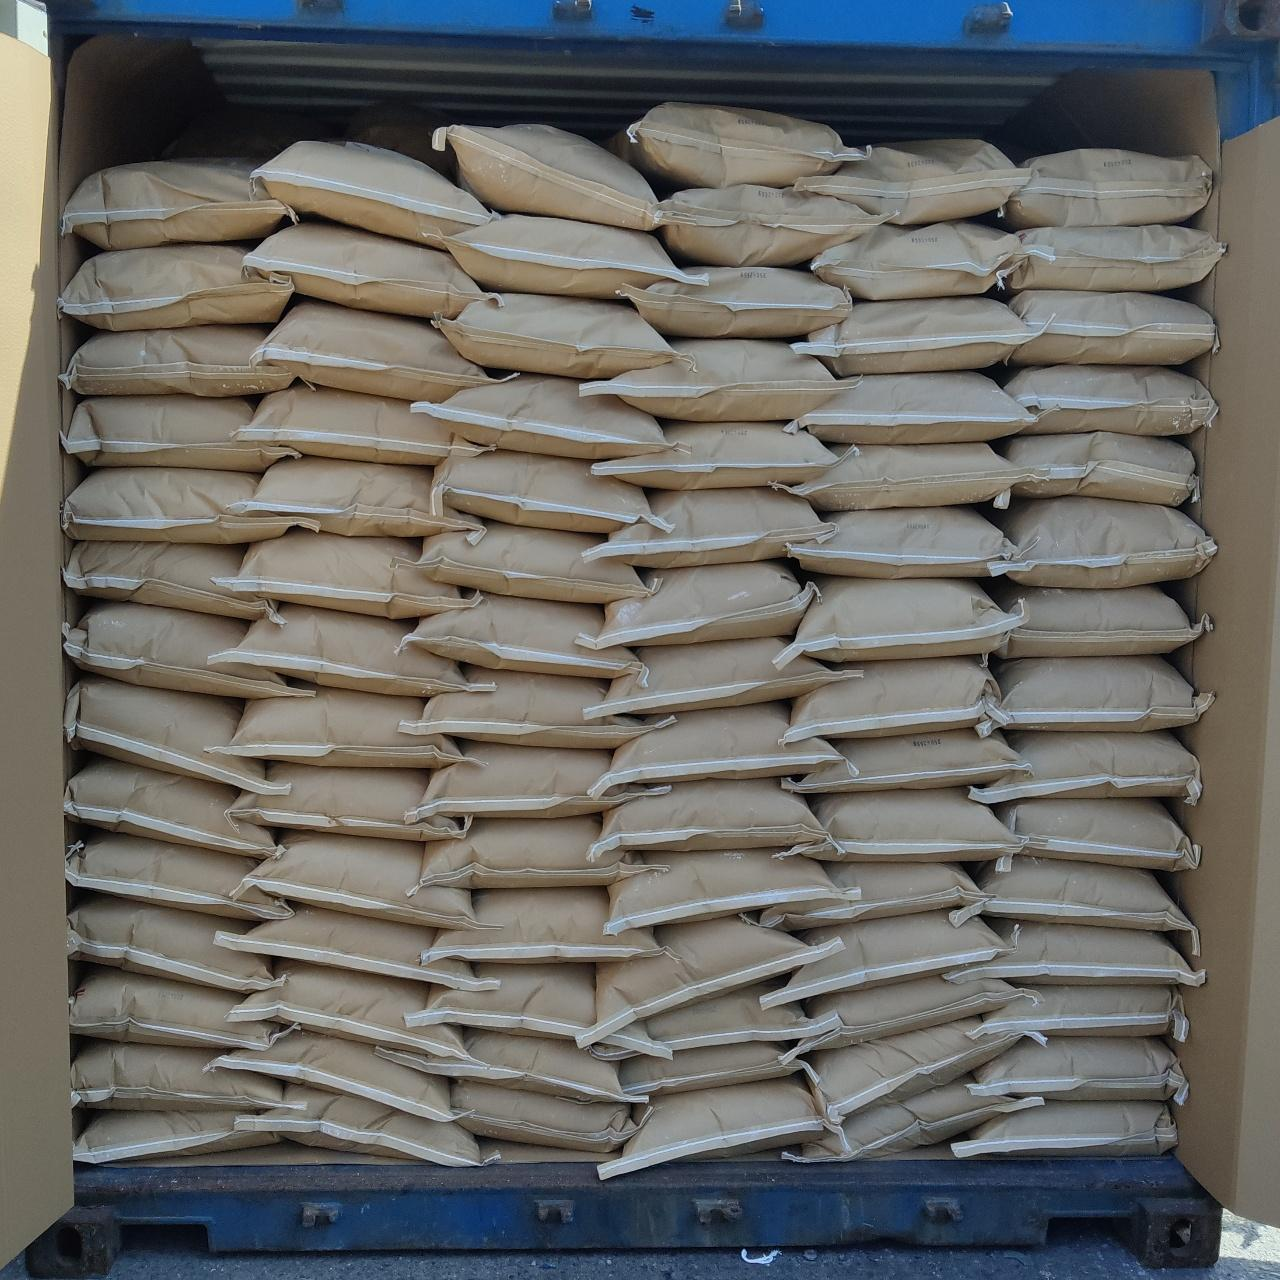sack: (584, 918, 836, 1042), (406, 963, 671, 1058), (68, 674, 284, 790), (252, 142, 490, 246), (244, 222, 490, 318), (258, 300, 490, 398), (214, 606, 472, 694), (218, 906, 492, 988), (444, 126, 660, 230), (242, 832, 480, 926), (232, 960, 464, 1056), (66, 602, 308, 694), (600, 1076, 826, 1174), (966, 854, 1198, 948), (586, 638, 854, 718), (66, 756, 274, 858), (68, 894, 284, 992), (610, 104, 862, 188), (580, 340, 844, 420), (234, 1084, 490, 1166), (416, 374, 664, 458), (594, 704, 836, 790), (770, 912, 1006, 1000), (210, 1032, 446, 1120), (440, 214, 686, 298), (784, 1080, 1040, 1160), (232, 530, 474, 614), (402, 668, 662, 746), (434, 294, 674, 378), (64, 158, 292, 246), (404, 594, 640, 678), (814, 1020, 1010, 1120), (228, 456, 478, 534), (582, 562, 814, 646), (68, 830, 288, 918), (784, 976, 1026, 1056), (216, 688, 462, 766), (236, 384, 482, 462), (591, 984, 840, 1061), (792, 578, 1020, 662), (792, 140, 1024, 222), (434, 450, 660, 534), (62, 244, 292, 326), (998, 498, 1214, 584), (608, 850, 840, 930), (794, 298, 1038, 374), (414, 742, 664, 816), (784, 656, 998, 742), (388, 1030, 642, 1102), (416, 522, 650, 600), (590, 488, 824, 566), (420, 816, 662, 890), (592, 778, 826, 854), (424, 888, 662, 962), (780, 788, 1016, 862), (970, 730, 1198, 806), (232, 764, 466, 838), (72, 966, 288, 1046), (64, 468, 296, 542), (66, 542, 278, 622), (790, 372, 1032, 442), (658, 186, 878, 262), (978, 656, 1214, 726), (810, 222, 1020, 300), (66, 398, 292, 470), (1002, 150, 1210, 228), (992, 584, 1210, 658), (66, 326, 296, 396), (946, 922, 1204, 984), (778, 442, 1016, 508), (790, 508, 1014, 578), (592, 422, 836, 486), (1008, 292, 1216, 366), (784, 730, 1028, 792), (622, 268, 850, 334), (1002, 366, 1214, 436), (754, 862, 982, 926), (996, 798, 1198, 870), (74, 1040, 280, 1110), (1010, 226, 1222, 290), (1004, 434, 1198, 502), (974, 1040, 1186, 1102), (450, 1080, 636, 1150), (952, 1102, 1174, 1158), (972, 986, 1186, 1042), (74, 1112, 282, 1162), (618, 1046, 804, 1094)
